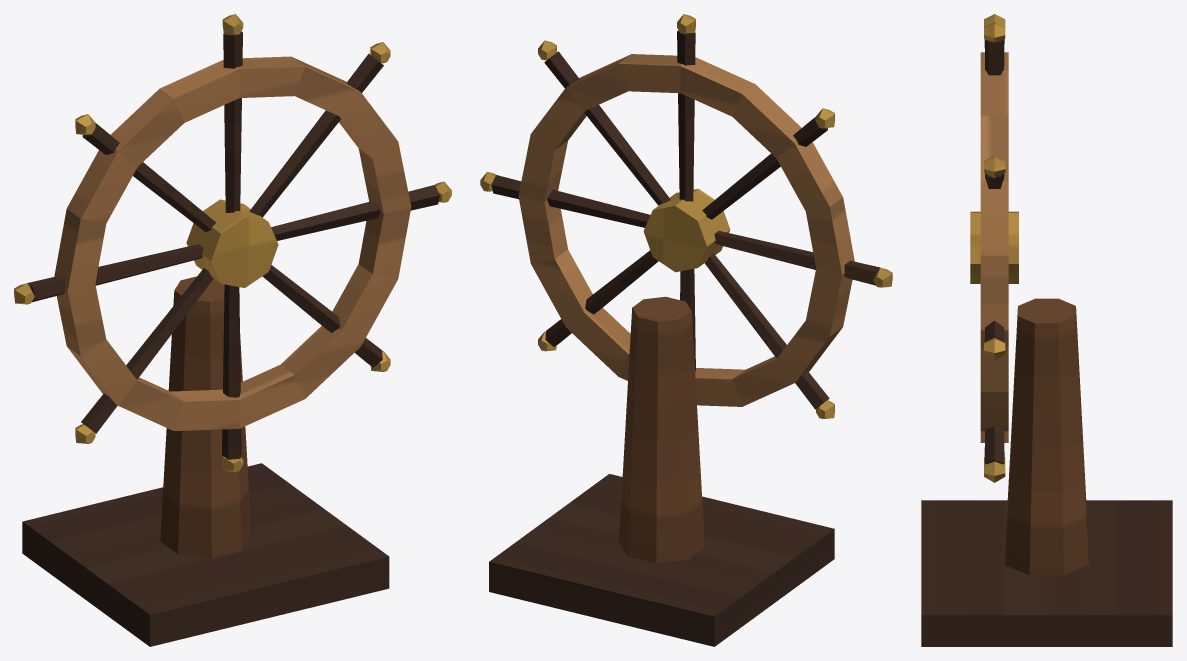
The model's file is SM_Prop_HelmWheel_HQ.glb.
3 views of the same model, side by side, from view 1: azimuth 30°, elevation 25°; view 2: azimuth 150°, elevation 25°; view 3: azimuth 270°, elevation 25° (orthographic). The views are drawn at different scales.
Visible parts, largest first — view 1: SM_Prop_HelmWheel_HQ; view 2: SM_Prop_HelmWheel_HQ; view 3: SM_Prop_HelmWheel_HQ.
Boxes of the visible parts, bbox=[...] form: SM_Prop_HelmWheel_HQ: bbox=[14, 14, 451, 646]; SM_Prop_HelmWheel_HQ: bbox=[480, 14, 892, 646]; SM_Prop_HelmWheel_HQ: bbox=[921, 14, 1172, 646].
Bounding box in the file's own units: 1.42 × 1.79 × 0.72.
Materials: 1 (1 with a texture image).
